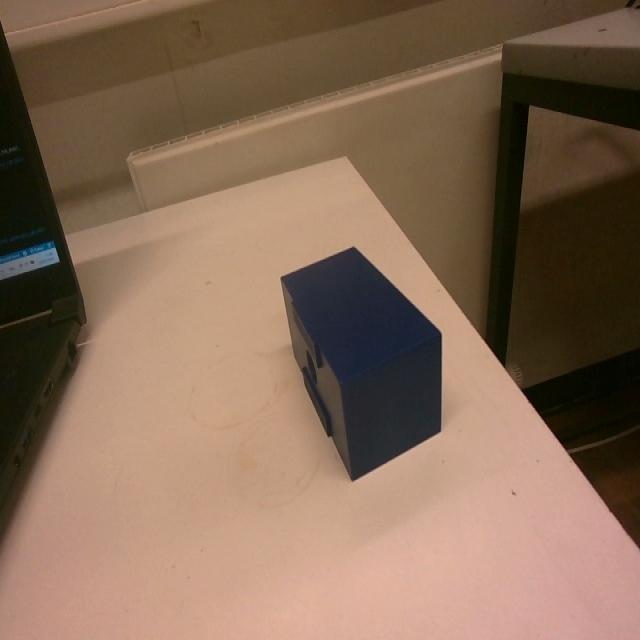Blue Cuboid: (277, 242, 444, 482)
